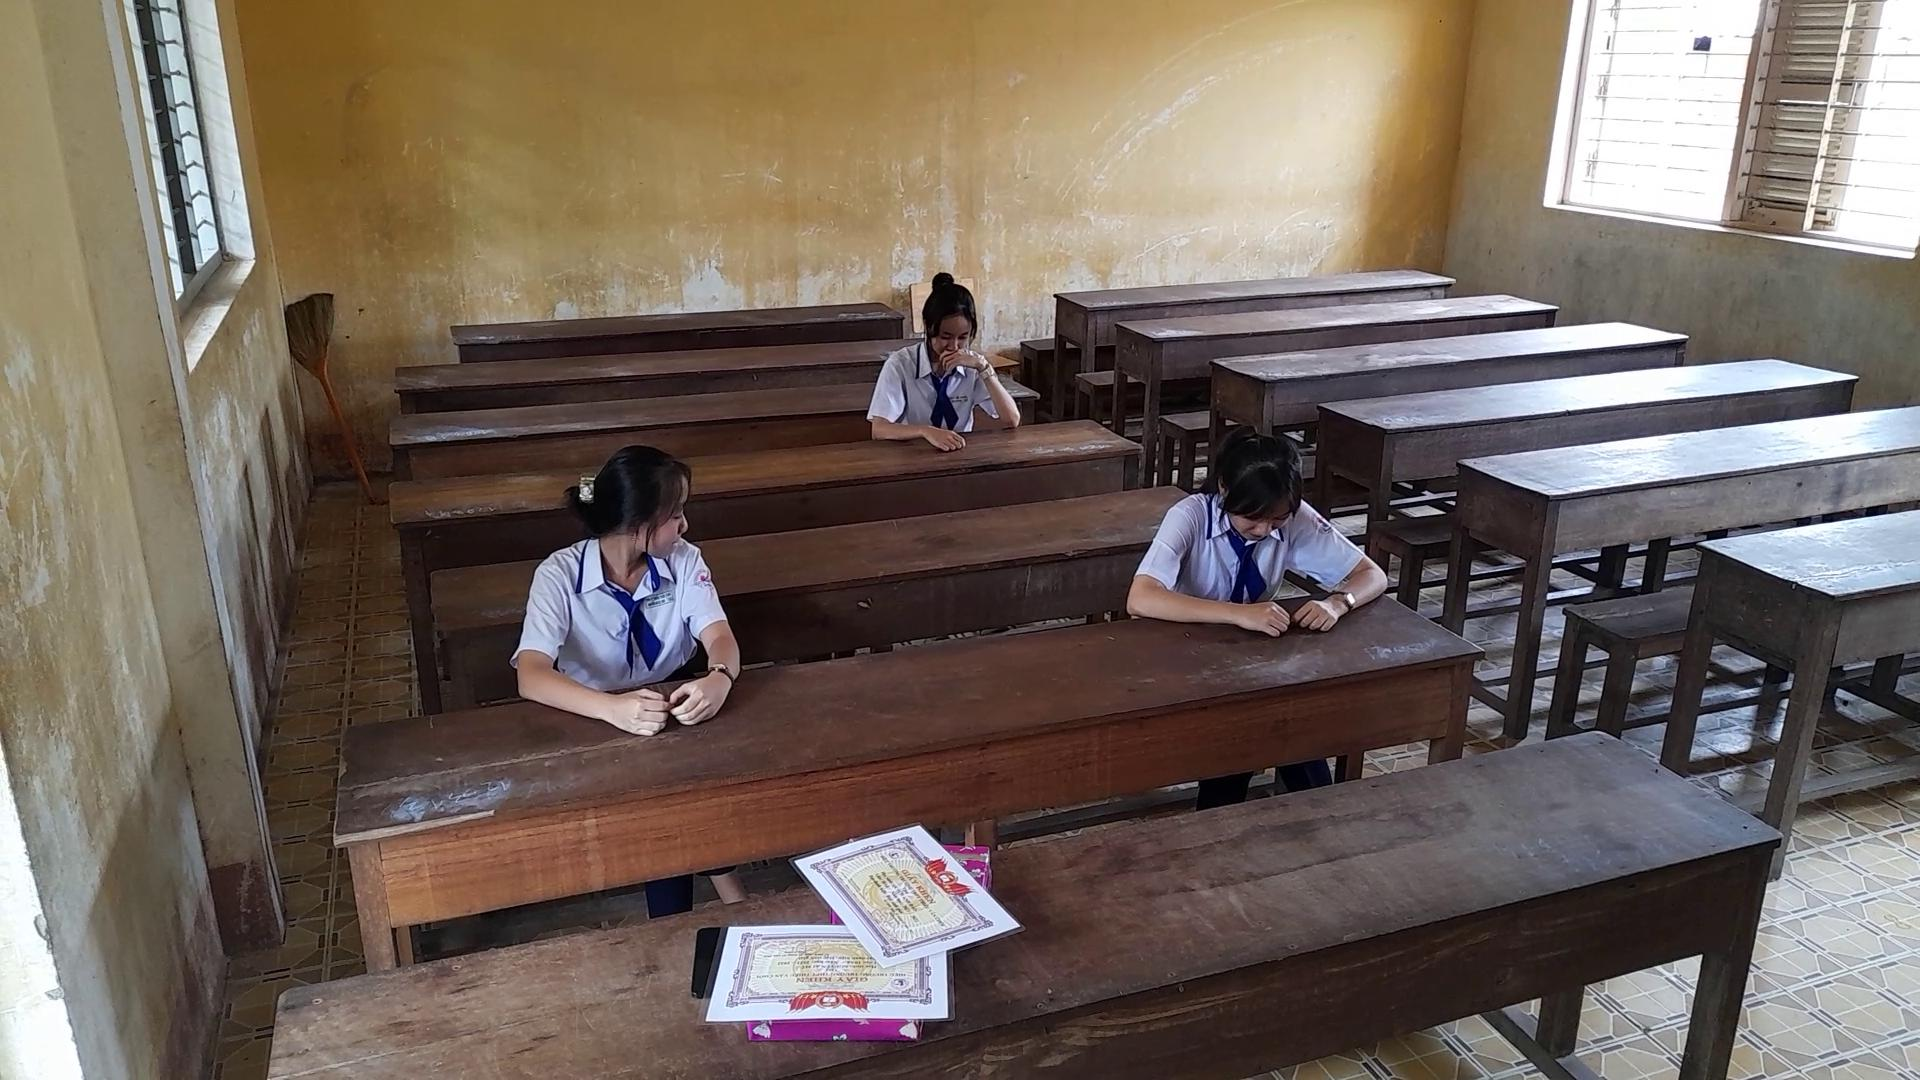Bend Over The Desk: (1193, 407, 1324, 560), (916, 264, 1000, 368)
Look Around: (553, 431, 705, 579)
Wave: (936, 344, 1034, 436)
